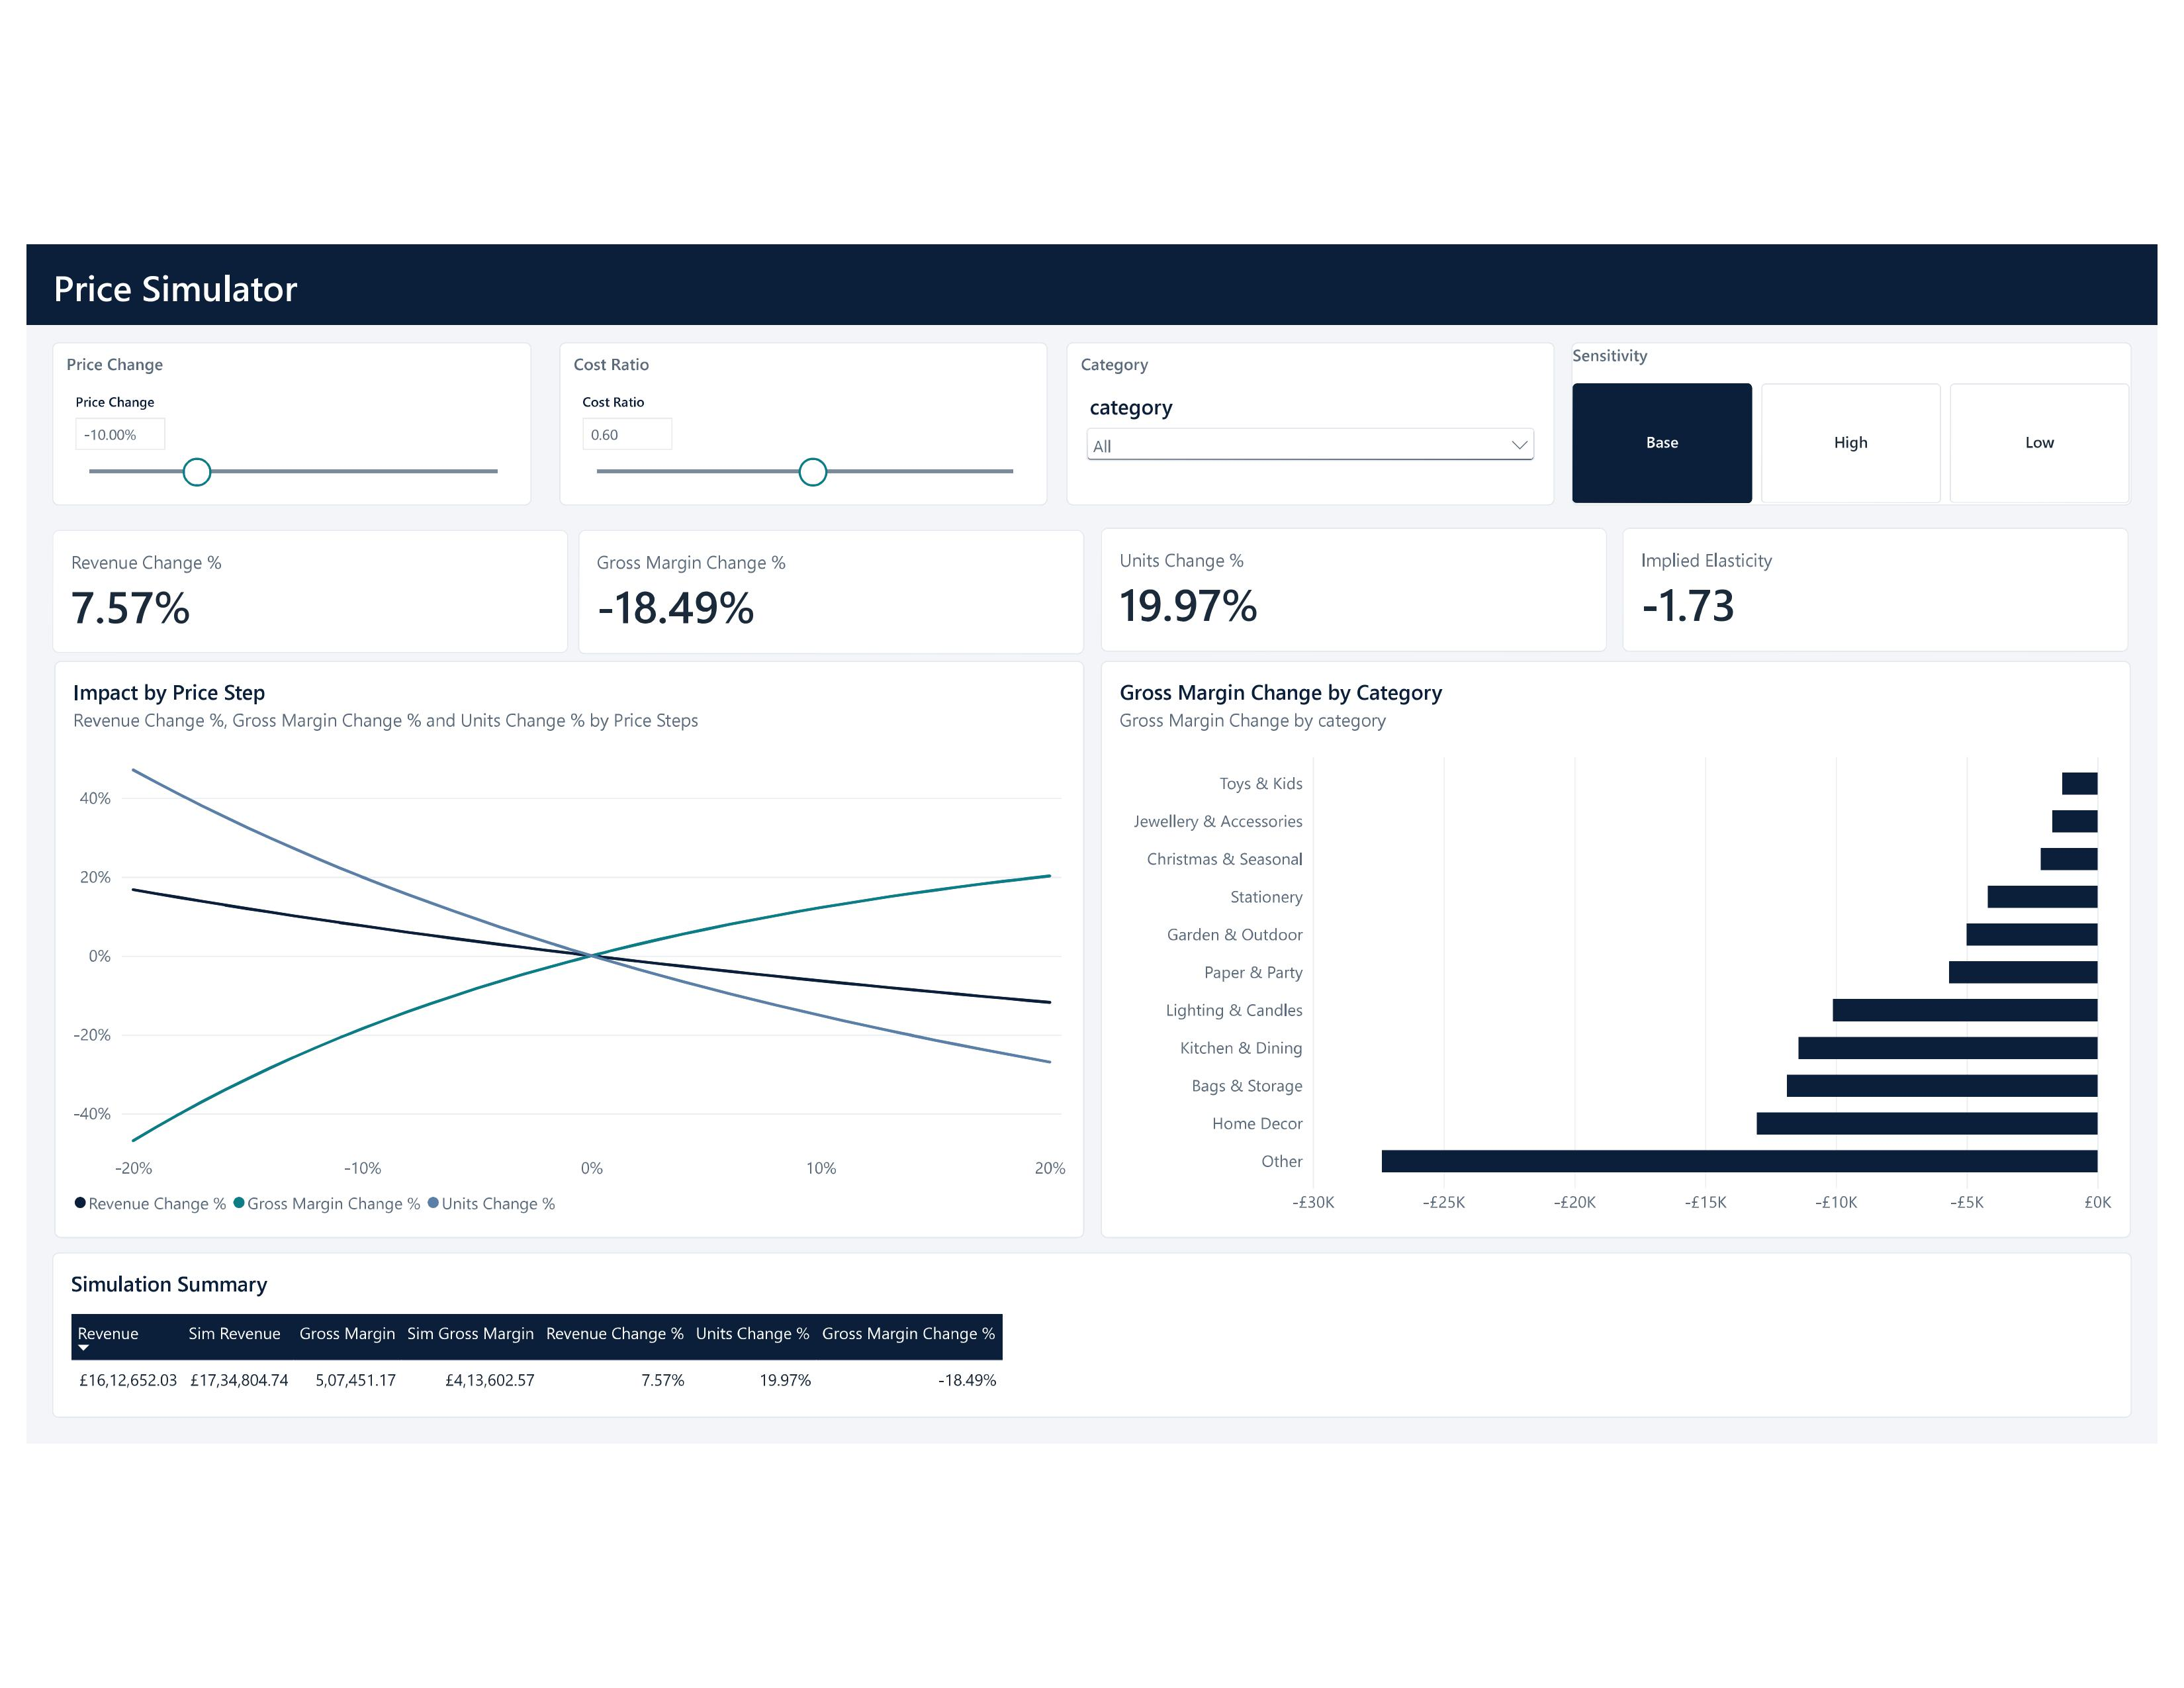

What the dashboard file says about the page in this screenshot:
{"tool":"powerbi","page":{"name":"Price Simulator","canvas":[1920,1080],"ordinal":1},"visuals":[{"type":"slicer","title":"Price Change","fields":{"Values":["Price Change.Price Change"]},"box":[23.3,88.3,431.7,146.7],"z":0},{"type":"textbox","box":[0,0,1920,72],"z":50},{"type":"slicer","title":"Cost Ratio","fields":{"Values":["Cost Ratio.Cost Ratio"]},"box":[480,88.3,440,146.7],"z":1000},{"type":"advancedSlicerVisual","title":"Sensitivity","fields":{"Values":["Sensitivity.Sensitivity"]},"box":[1391.7,88.3,505,146.7],"z":2000},{"type":"slicer","title":"Category","fields":{"Values":["panel.category"]},"box":[936.7,88.3,440,146.7],"z":2001},{"type":"cardVisual","fields":{"Data":["panel.Revenue Change %"]},"box":[23.3,256.7,465,111.7],"z":2002},{"type":"cardVisual","fields":{"Data":["panel.Gross Margin Change %"]},"box":[496.7,256.7,456,112],"z":2003},{"type":"cardVisual","fields":{"Data":["panel.Units Change %"]},"box":[968.3,255,456,112],"z":2004},{"type":"cardVisual","fields":{"Data":["panel.Implied Elasticity"]},"box":[1438.3,255,456,112],"z":2005},{"type":"lineChart","title":"Impact by Price Step","fields":{"Category":["Price Steps.Price Steps"],"Y":["panel.Revenue Change %","panel.Gross Margin Change %","panel.Units Change %"]},"box":[25,375,928,520],"z":2007},{"type":"clusteredBarChart","title":"Gross Margin Change by Category","fields":{"Category":["panel.category"],"Y":["panel.Gross Margin Change"]},"box":[968.3,375,928,520],"z":2008},{"type":"tableEx","title":"Simulation Summary","fields":{"Values":["panel.Revenue","panel.Sim Revenue","panel.Gross Margin","panel.Sim Gross Margin","panel.Revenue Change %","panel.Units Change %","panel.Gross Margin Change %"]},"box":[23.3,908.3,1873.3,148.3],"z":2009}]}

Visuals, with their boxes on the page's 1920x1080 design canvas (x1, y1, x2, y2). These are canvas units, not pixel positions in the 2184x1688 screenshot, which may show the page scaled, cropped or inside an application window:
"Price Change" slicer: left=23, top=88, right=455, bottom=235
textbox: left=0, top=0, right=1920, bottom=72
"Cost Ratio" slicer: left=480, top=88, right=920, bottom=235
"Sensitivity" advancedSlicerVisual: left=1392, top=88, right=1897, bottom=235
"Category" slicer: left=937, top=88, right=1377, bottom=235
cardVisual - panel.Revenue Change %: left=23, top=257, right=488, bottom=368
cardVisual - panel.Gross Margin Change %: left=497, top=257, right=953, bottom=369
cardVisual - panel.Units Change %: left=968, top=255, right=1424, bottom=367
cardVisual - panel.Implied Elasticity: left=1438, top=255, right=1894, bottom=367
"Impact by Price Step" lineChart: left=25, top=375, right=953, bottom=895
"Gross Margin Change by Category" clusteredBarChart: left=968, top=375, right=1896, bottom=895
"Simulation Summary" tableEx: left=23, top=908, right=1897, bottom=1057
